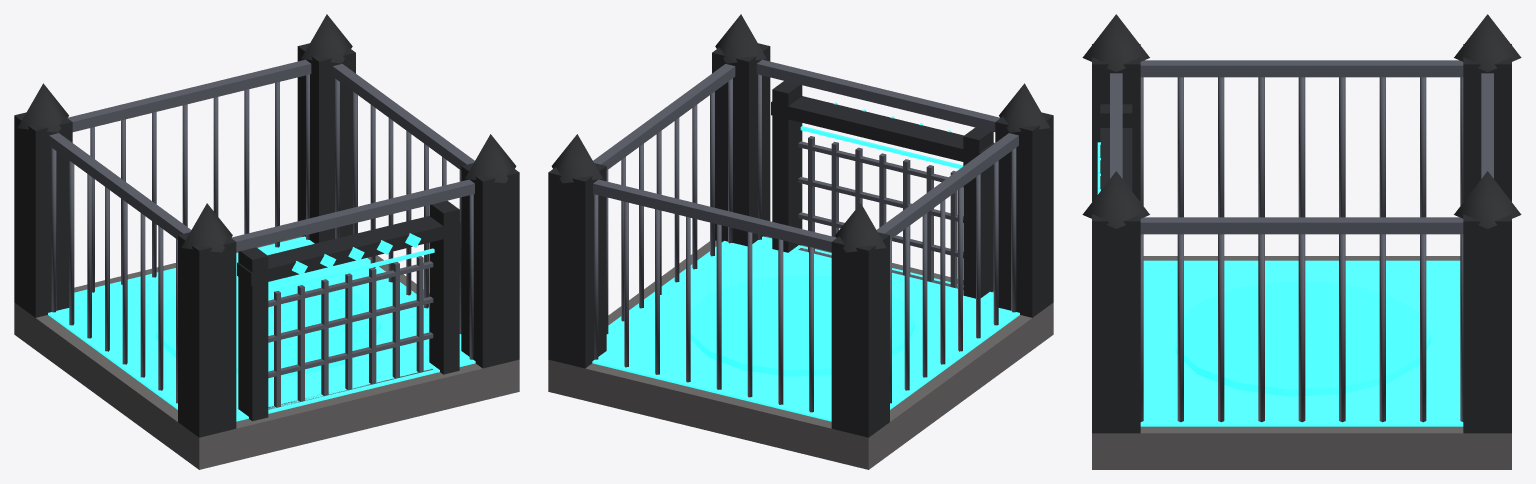
File: MonsterHub_VEX_Pit.glb
3 views of the same model, side by side, from view 1: azimuth 30°, elevation 25°; view 2: azimuth 150°, elevation 25°; view 3: azimuth 270°, elevation 25° (orthographic). The views are drawn at different scales.
Parts seen in each view (by area): view 1: MonsterHub_VEX_Pit, MonsterHub_VEX_Pit_Gate; view 2: MonsterHub_VEX_Pit, MonsterHub_VEX_Pit_Gate; view 3: MonsterHub_VEX_Pit.
Boxes of the visible parts, bbox=[...] form: MonsterHub_VEX_Pit: bbox=[14, 14, 519, 469]; MonsterHub_VEX_Pit_Gate: bbox=[268, 248, 434, 409]; MonsterHub_VEX_Pit: bbox=[548, 14, 1053, 469]; MonsterHub_VEX_Pit_Gate: bbox=[798, 126, 963, 289]; MonsterHub_VEX_Pit: bbox=[1082, 14, 1521, 469].
Size of the model in its own units: 5.44 by 3.95 by 5.44.
